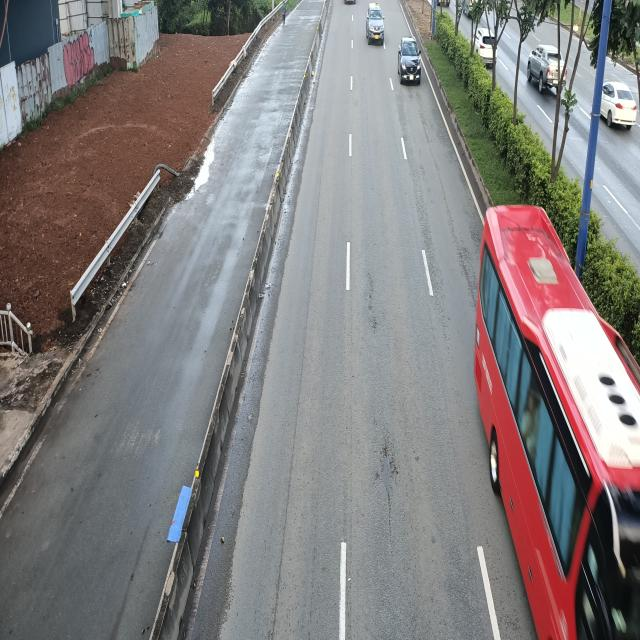car: (399, 37, 424, 84), (368, 5, 386, 44)
coach: (472, 203, 640, 639)
